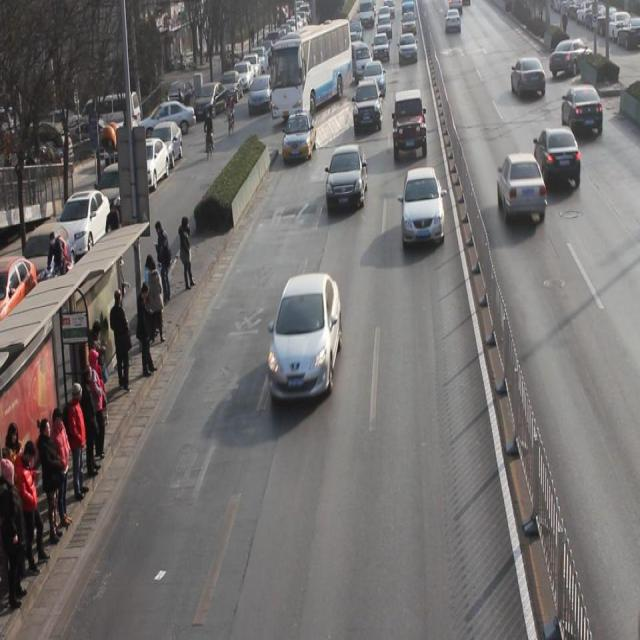car: (269, 271, 342, 402), (402, 164, 446, 250), (497, 153, 548, 223), (534, 125, 582, 191), (325, 144, 369, 209), (393, 90, 429, 160), (562, 85, 603, 138), (283, 111, 317, 163), (552, 38, 594, 79), (354, 78, 384, 134), (511, 57, 545, 101), (362, 59, 387, 100), (399, 33, 418, 67), (373, 32, 391, 64)
truck: (351, 40, 373, 84)
van: (271, 24, 352, 125)
